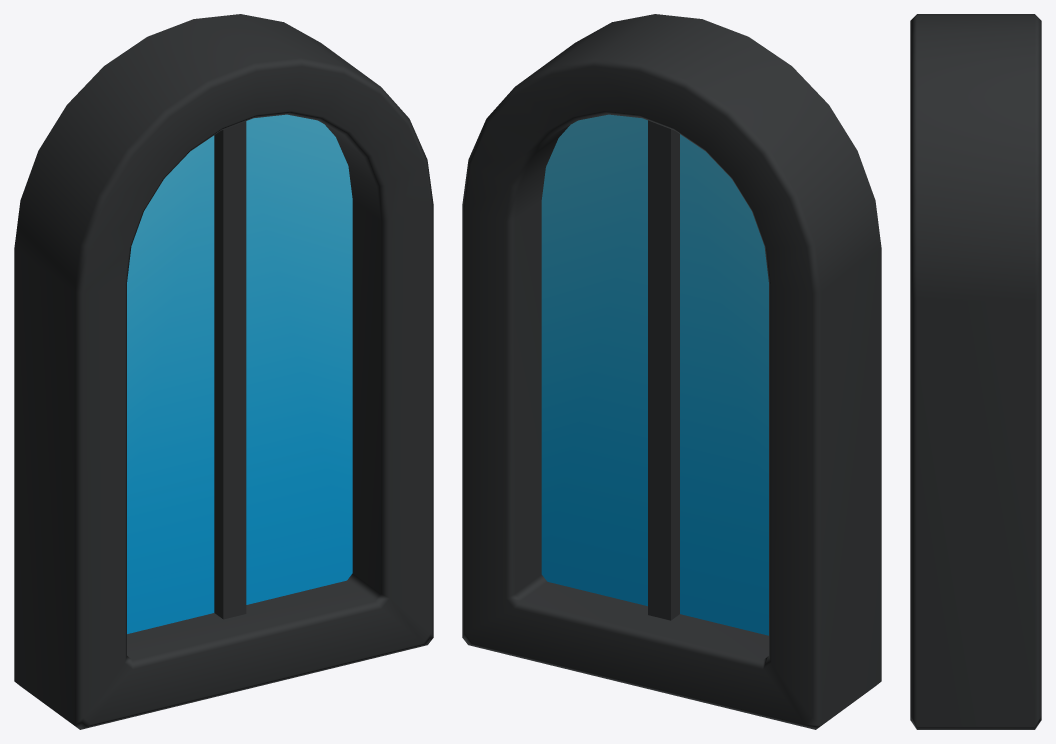
The model's file is Window_Black_14.glb.
The picture shows the model from 3 angles, left to right: view 1: azimuth 30°, elevation 25°; view 2: azimuth 150°, elevation 25°; view 3: azimuth 270°, elevation 25°; orthographic projection.
Parts seen in each view (by area): view 1: Window_Black_14; view 2: Window_Black_14; view 3: Window_Black_14.
Part boxes in pixels (box(x1,y1,x2,y2)): Window_Black_14: box(14, 14, 433, 729); Window_Black_14: box(462, 14, 881, 729); Window_Black_14: box(910, 14, 1041, 729).
Bounding box in the file's own units: 1.24 × 2.07 × 0.4.
2 materials, 2 textured.
